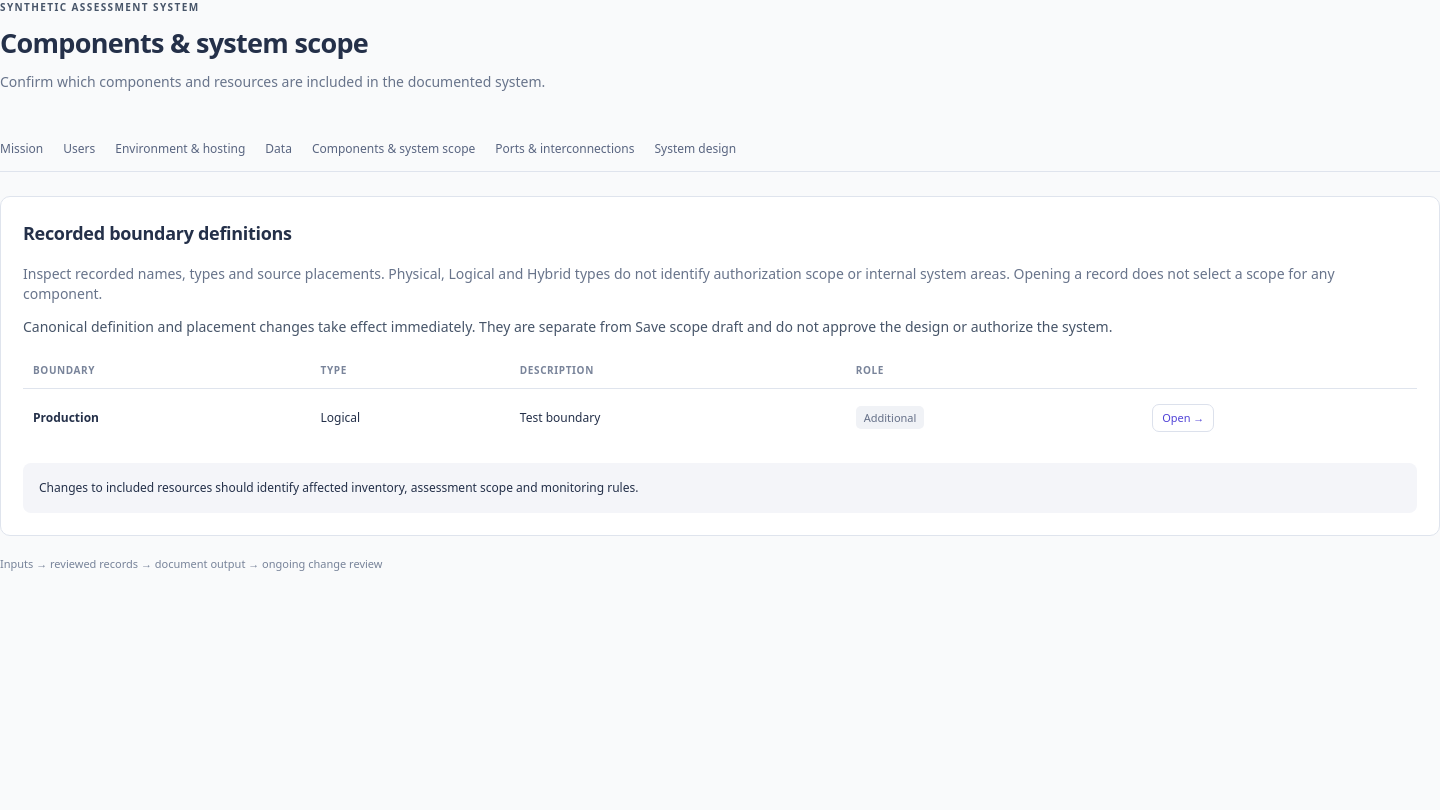
Test case: mock-defined boundary and baseline tasks › opens a real boundary review from an accessible named action
The width and height of the screenshot is (1440, 810).
Step 1. Click the button with aria-label "Open boundary Production" → click(1183, 418), box [1152,404,1214,432]
(page scrolled)
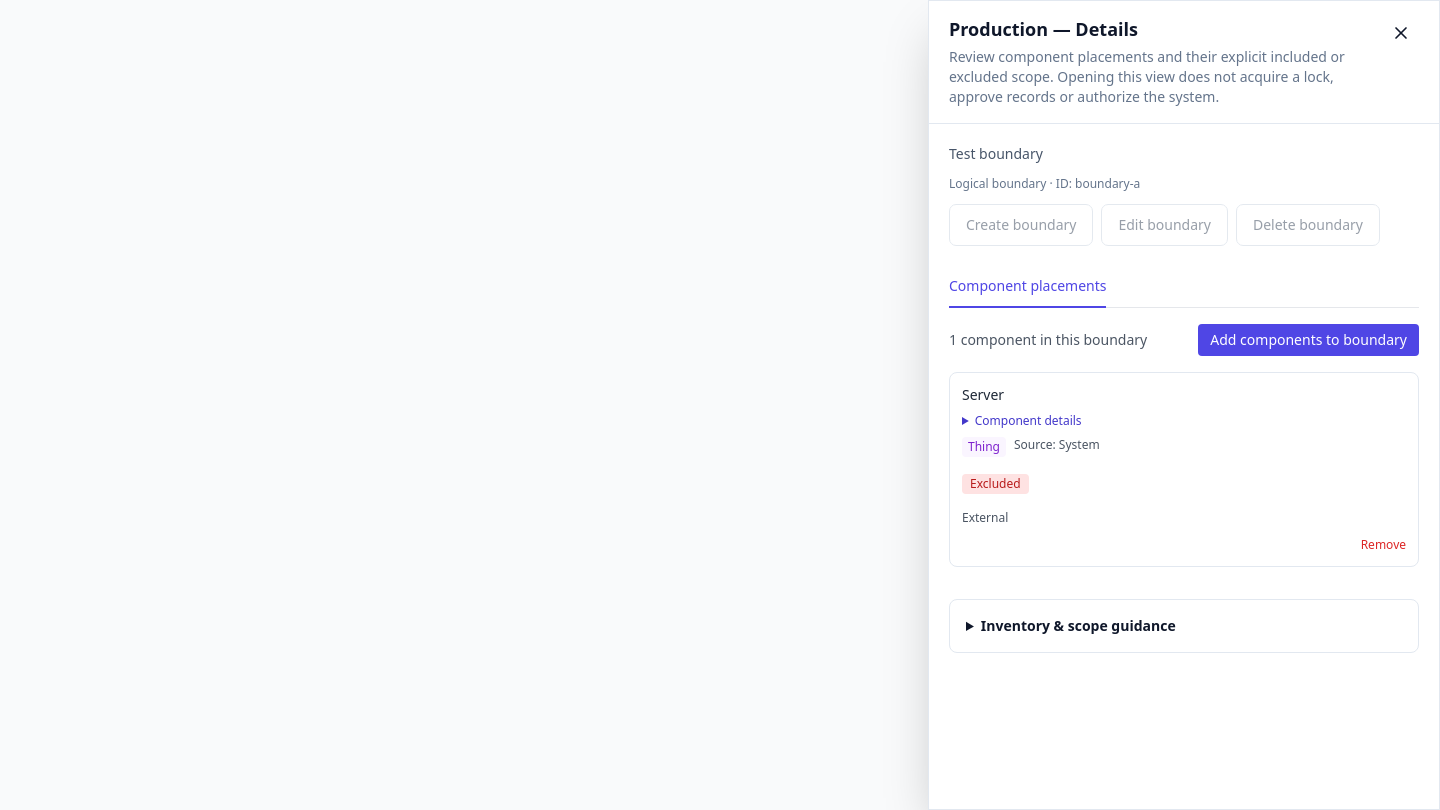
Result: the button "Excluded" is shown at [962,474,1029,494]
